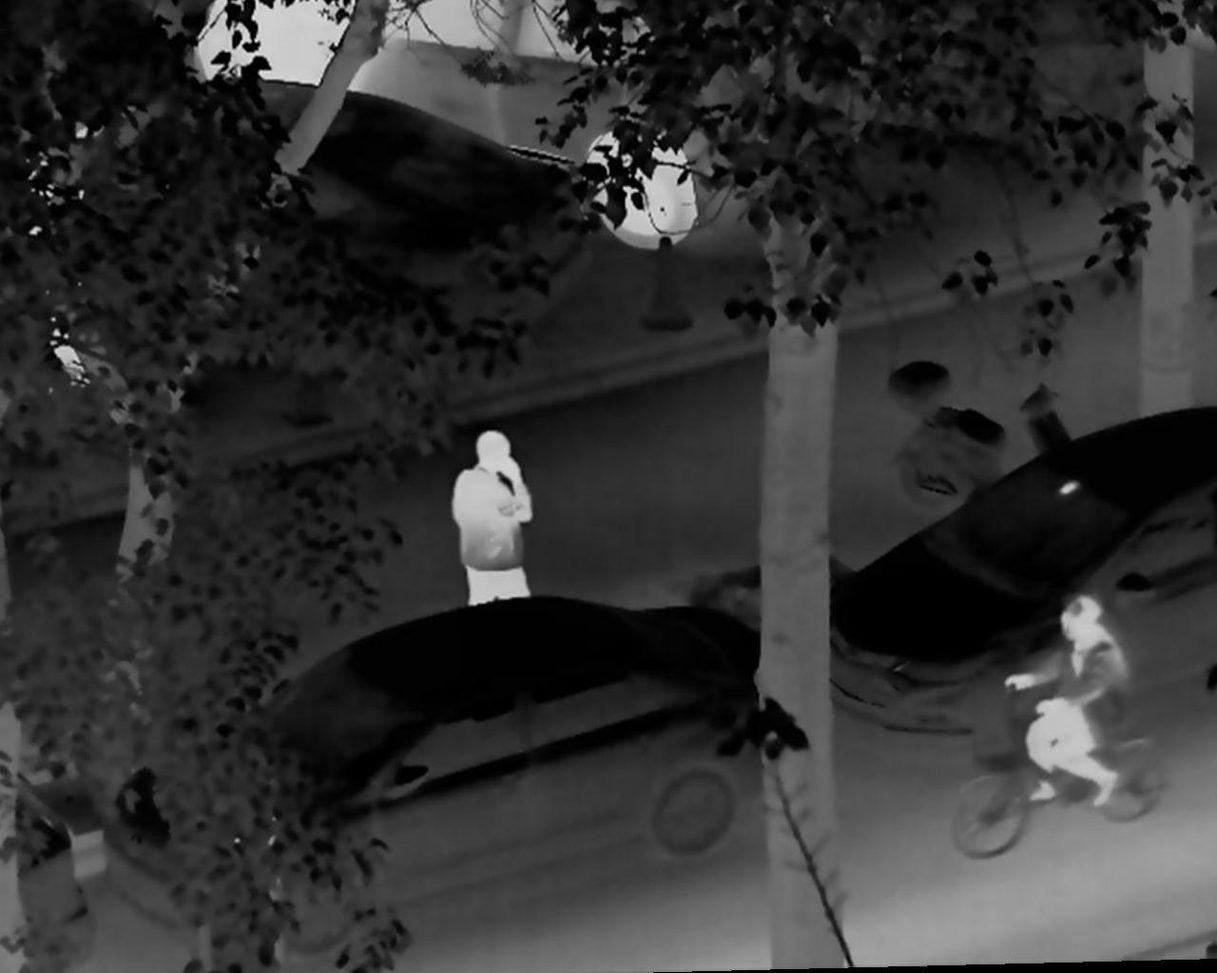person: (20, 124, 135, 399), (999, 588, 1127, 810), (450, 427, 536, 615)
